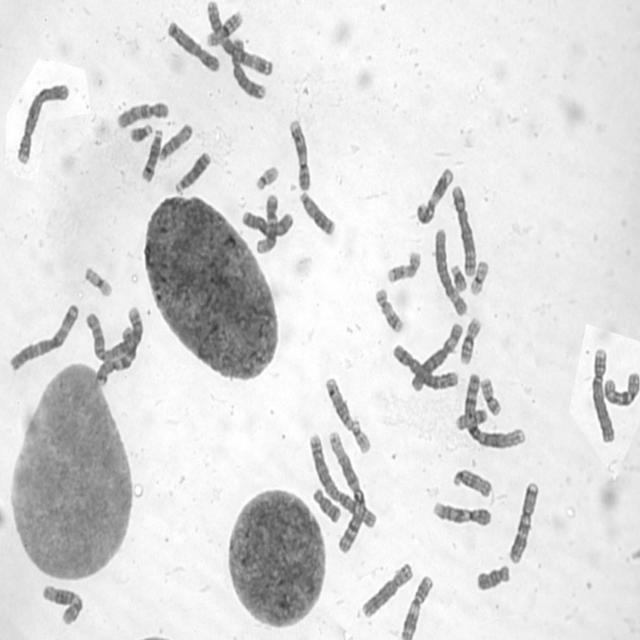A1: (327, 426, 369, 558), (462, 370, 526, 450)
A2: (306, 428, 378, 532), (84, 301, 144, 365)
A3: (204, 0, 275, 77), (7, 300, 81, 372)
B4: (14, 80, 71, 166), (589, 344, 616, 444)
B5: (390, 341, 459, 390), (449, 182, 477, 278)
C10: (114, 98, 169, 130), (601, 368, 640, 408)
C11: (414, 164, 454, 226), (399, 572, 434, 639)
C12: (40, 581, 84, 625), (253, 194, 280, 258)
C6: (408, 319, 464, 393), (432, 225, 469, 318)
C7: (506, 479, 542, 564), (92, 323, 138, 388)
C8: (359, 558, 414, 620), (232, 34, 266, 102)
C9: (431, 498, 493, 528), (287, 117, 311, 191)
D13: (298, 190, 338, 237), (173, 148, 213, 195)
D14: (323, 374, 354, 432), (139, 126, 163, 182)
D15: (157, 120, 194, 162), (451, 466, 493, 499)
E16: (204, 8, 243, 47), (458, 314, 482, 366)
E17: (374, 285, 404, 335), (383, 248, 422, 284)
E18: (473, 561, 511, 593), (311, 485, 342, 524)
F19: (82, 263, 115, 298), (467, 257, 490, 296)
F20: (453, 406, 489, 432), (480, 377, 502, 416)
G21: (448, 260, 469, 295), (128, 121, 154, 143)
G22: (349, 415, 373, 455), (253, 163, 280, 190)
X: (166, 18, 220, 74), (239, 206, 295, 238)
